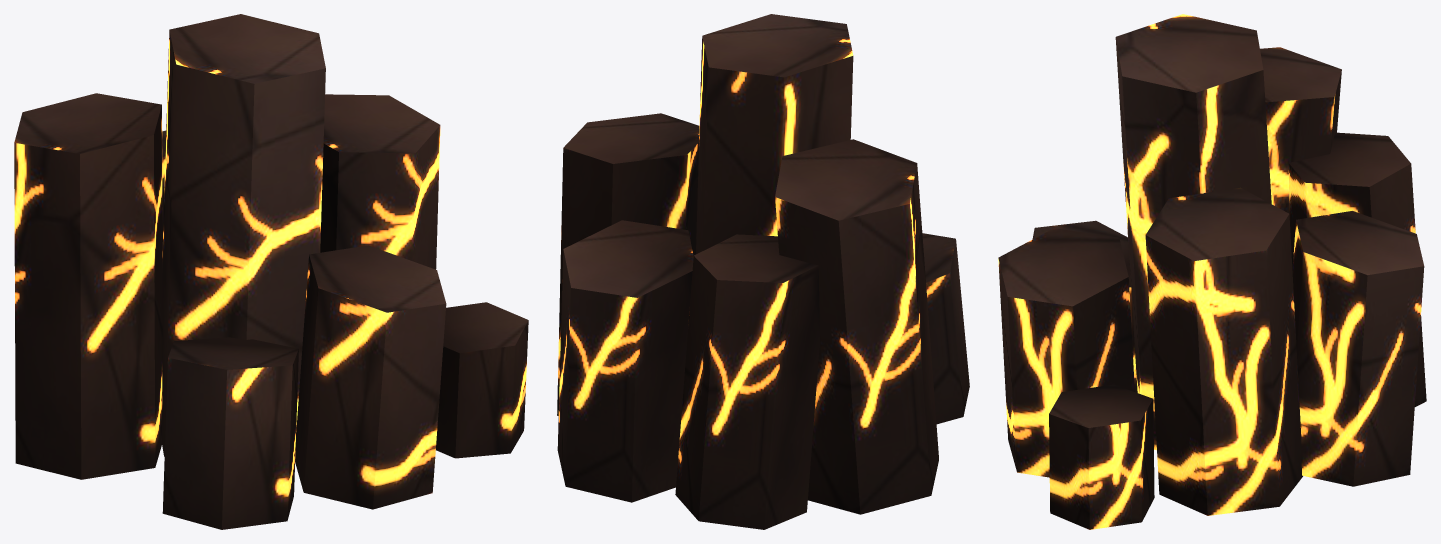
File: throne_basalt_rock.glb
The picture shows the model from 3 angles, left to right: view 1: azimuth 30°, elevation 25°; view 2: azimuth 150°, elevation 25°; view 3: azimuth 270°, elevation 25°; orthographic projection. The views are drawn at different scales.
Visible parts, largest first — view 1: throne_basalt_rock; view 2: throne_basalt_rock; view 3: throne_basalt_rock.
Part boxes in pixels (left/top/right/bottom): throne_basalt_rock: left=14, top=14, right=528, bottom=529; throne_basalt_rock: left=557, top=14, right=969, bottom=529; throne_basalt_rock: left=998, top=14, right=1426, bottom=529.
Bounding box in the file's own units: 1.69 × 1.55 × 1.57.
1 material, 1 textured.
